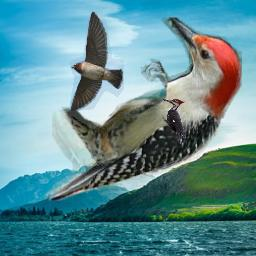Swallow: (70, 11, 124, 112)
Woodpecker: (45, 17, 242, 201), (162, 99, 186, 145)
